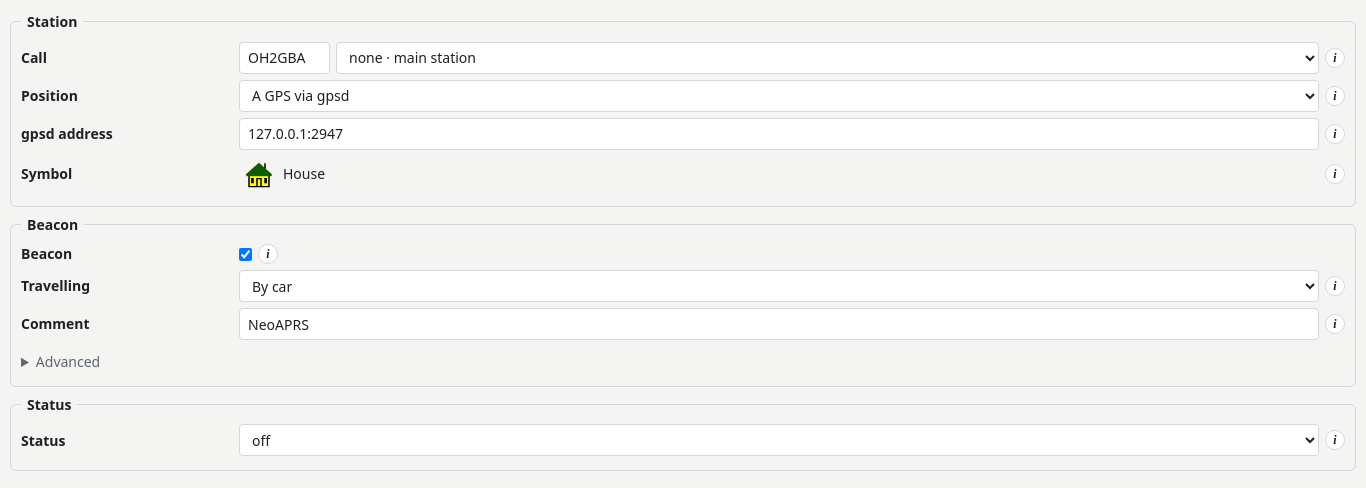
SettingsForm › the position choice of the Station group of the My station tab › the Beacon group › offers the four ways of travelling, By car first, with a one-line (i) that says what it changes
The image size is (1366, 488).
Expected: the dropdown with id "set-beacon-travel" shows "By car", [239,270,1319,302]
Step 1. Click the button with class "info-toggle" in the row of "Travelling" → (1335, 286), box [1325,276,1345,296]
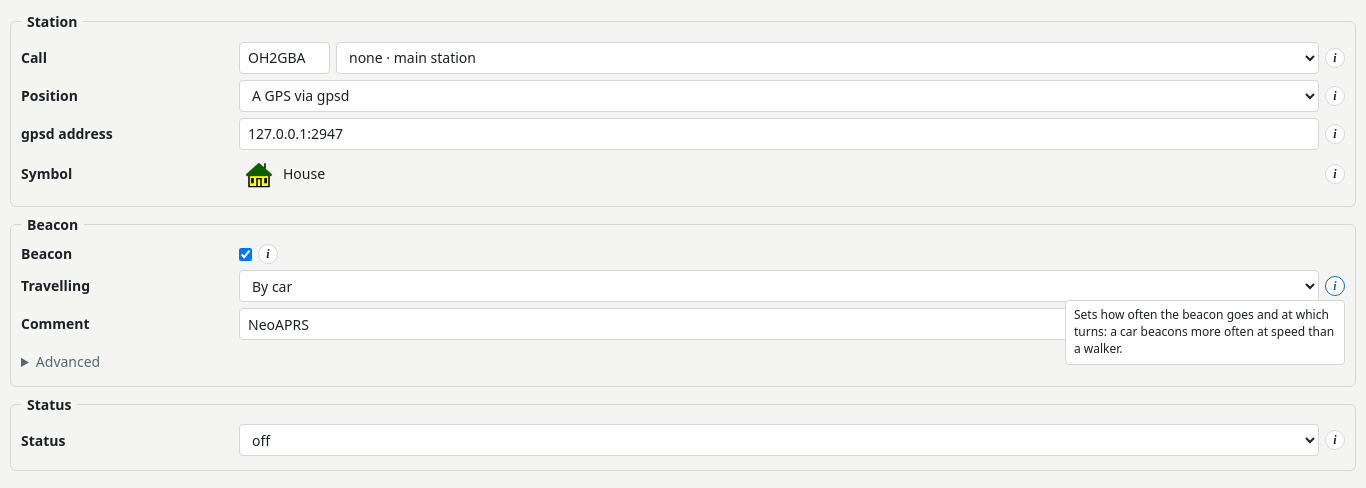
Result: the number of elements with class "info-line" is 1 at [1074,307,1336,358]
Result: the element with class "info-text" shows "how often the beacon goes and at which turns" at [1074,306,1334,357]
